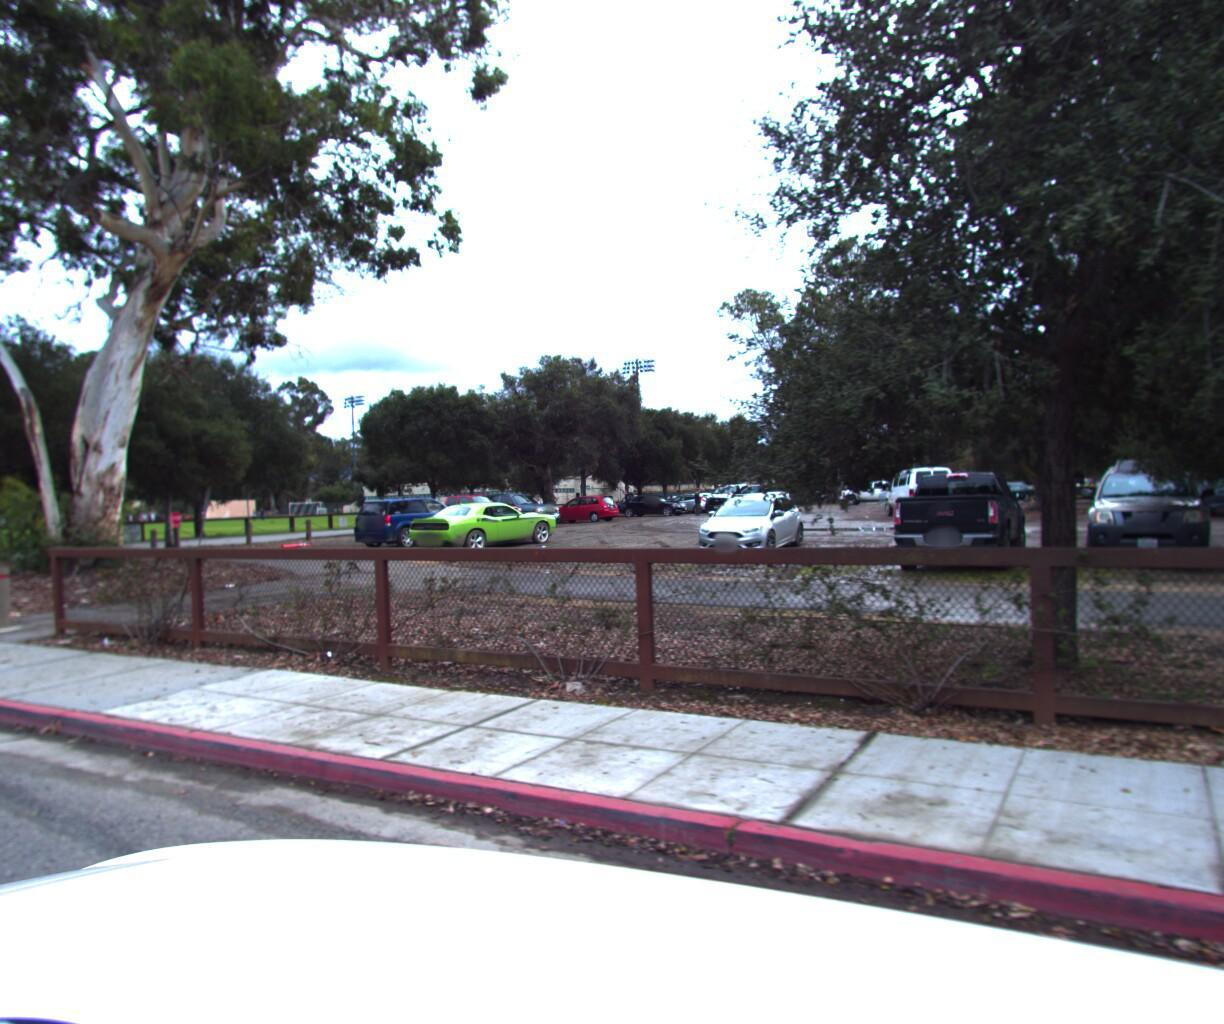car: (877, 456, 1030, 566)
